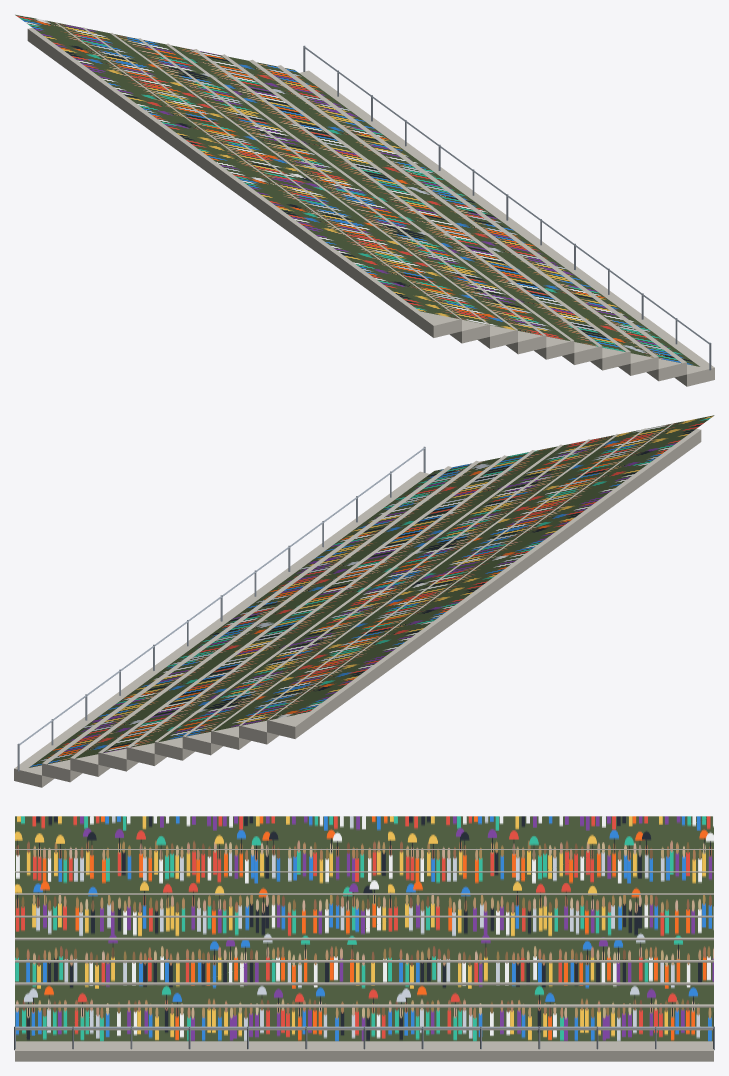
File: hill_stand_30m.glb
3 views of the same model, one above another, from view 1: azimuth 30°, elevation 25°; view 2: azimuth 150°, elevation 25°; view 3: azimuth 270°, elevation 25° (orthographic). The views are drawn at different scales.
Parts seen in each view (by area): view 1: hill_stand; view 2: hill_stand; view 3: hill_stand.
Part boxes in pixels (<box>): hill_stand: <box>14,14,714,386</box>; hill_stand: <box>14,415,714,787</box>; hill_stand: <box>14,816,714,1061</box>.
Size of the model in its own units: 12.59 by 5.73 by 30.08.
3 materials, 1 textured.
